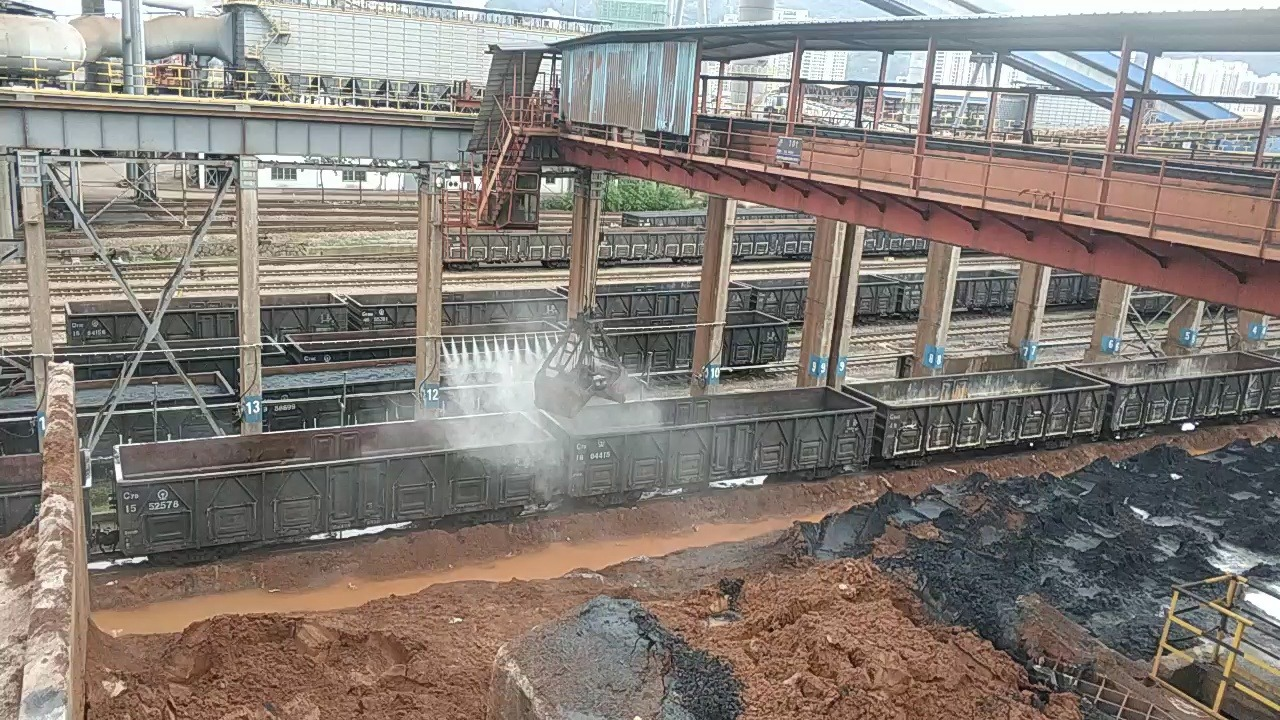dust: (423, 337, 687, 493)
grab: (524, 302, 637, 423)
